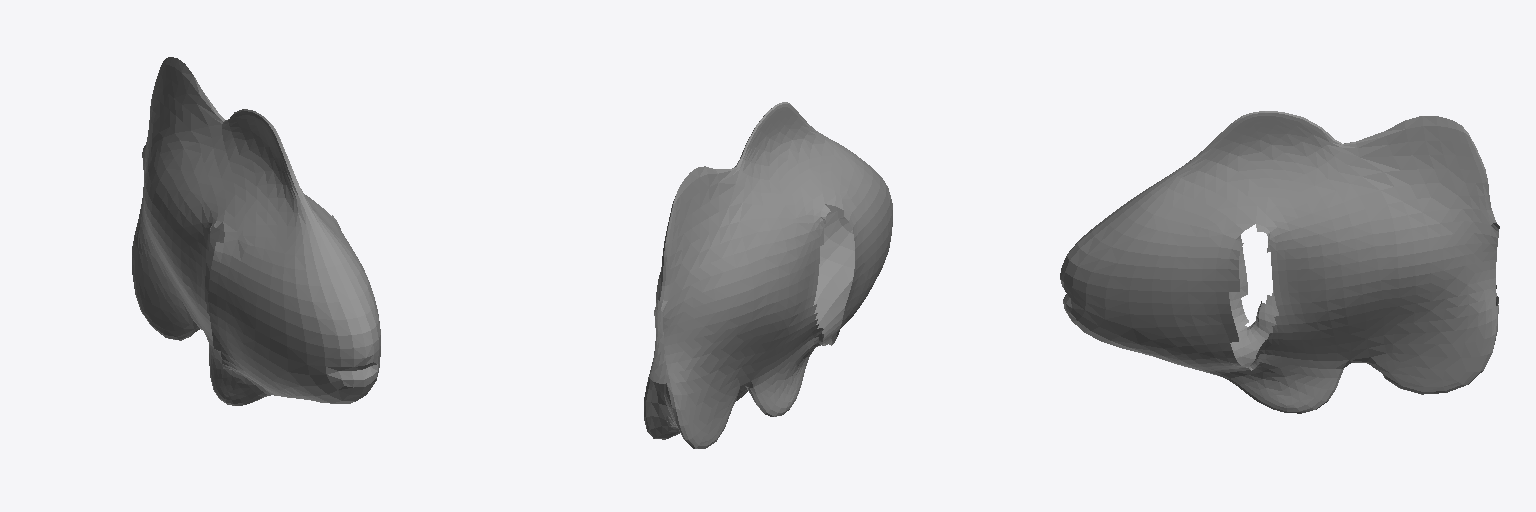
Rendered from pCuerpo.obj.
3 views of the same model, side by side, from view 1: azimuth 30°, elevation 25°; view 2: azimuth 150°, elevation 25°; view 3: azimuth 270°, elevation 25° (orthographic).
Visible parts, largest first — view 1: Clownfish001; view 2: Clownfish001; view 3: Clownfish001.
Part boxes in pixels (x1,y1,x2,y2): Clownfish001: (132,57,380,405); Clownfish001: (644,102,892,448); Clownfish001: (1060,111,1499,413).
Bounding box in the file's own units: 5.55 × 11.45 × 15.74.